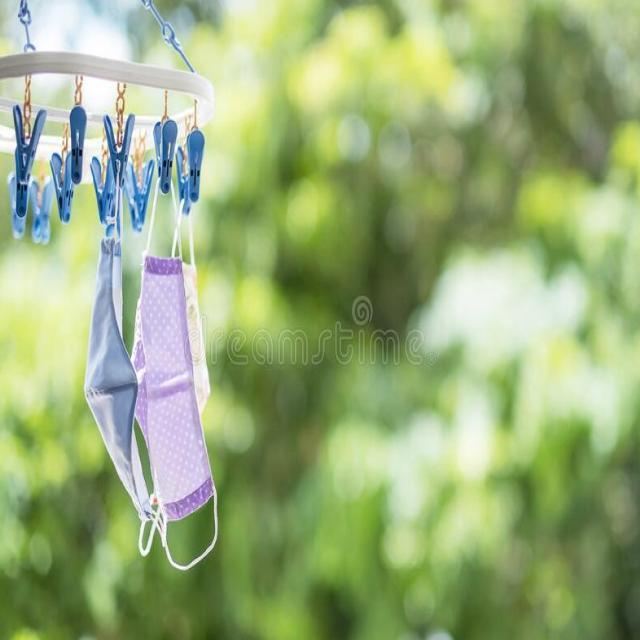clothes: (76, 240, 212, 580)
